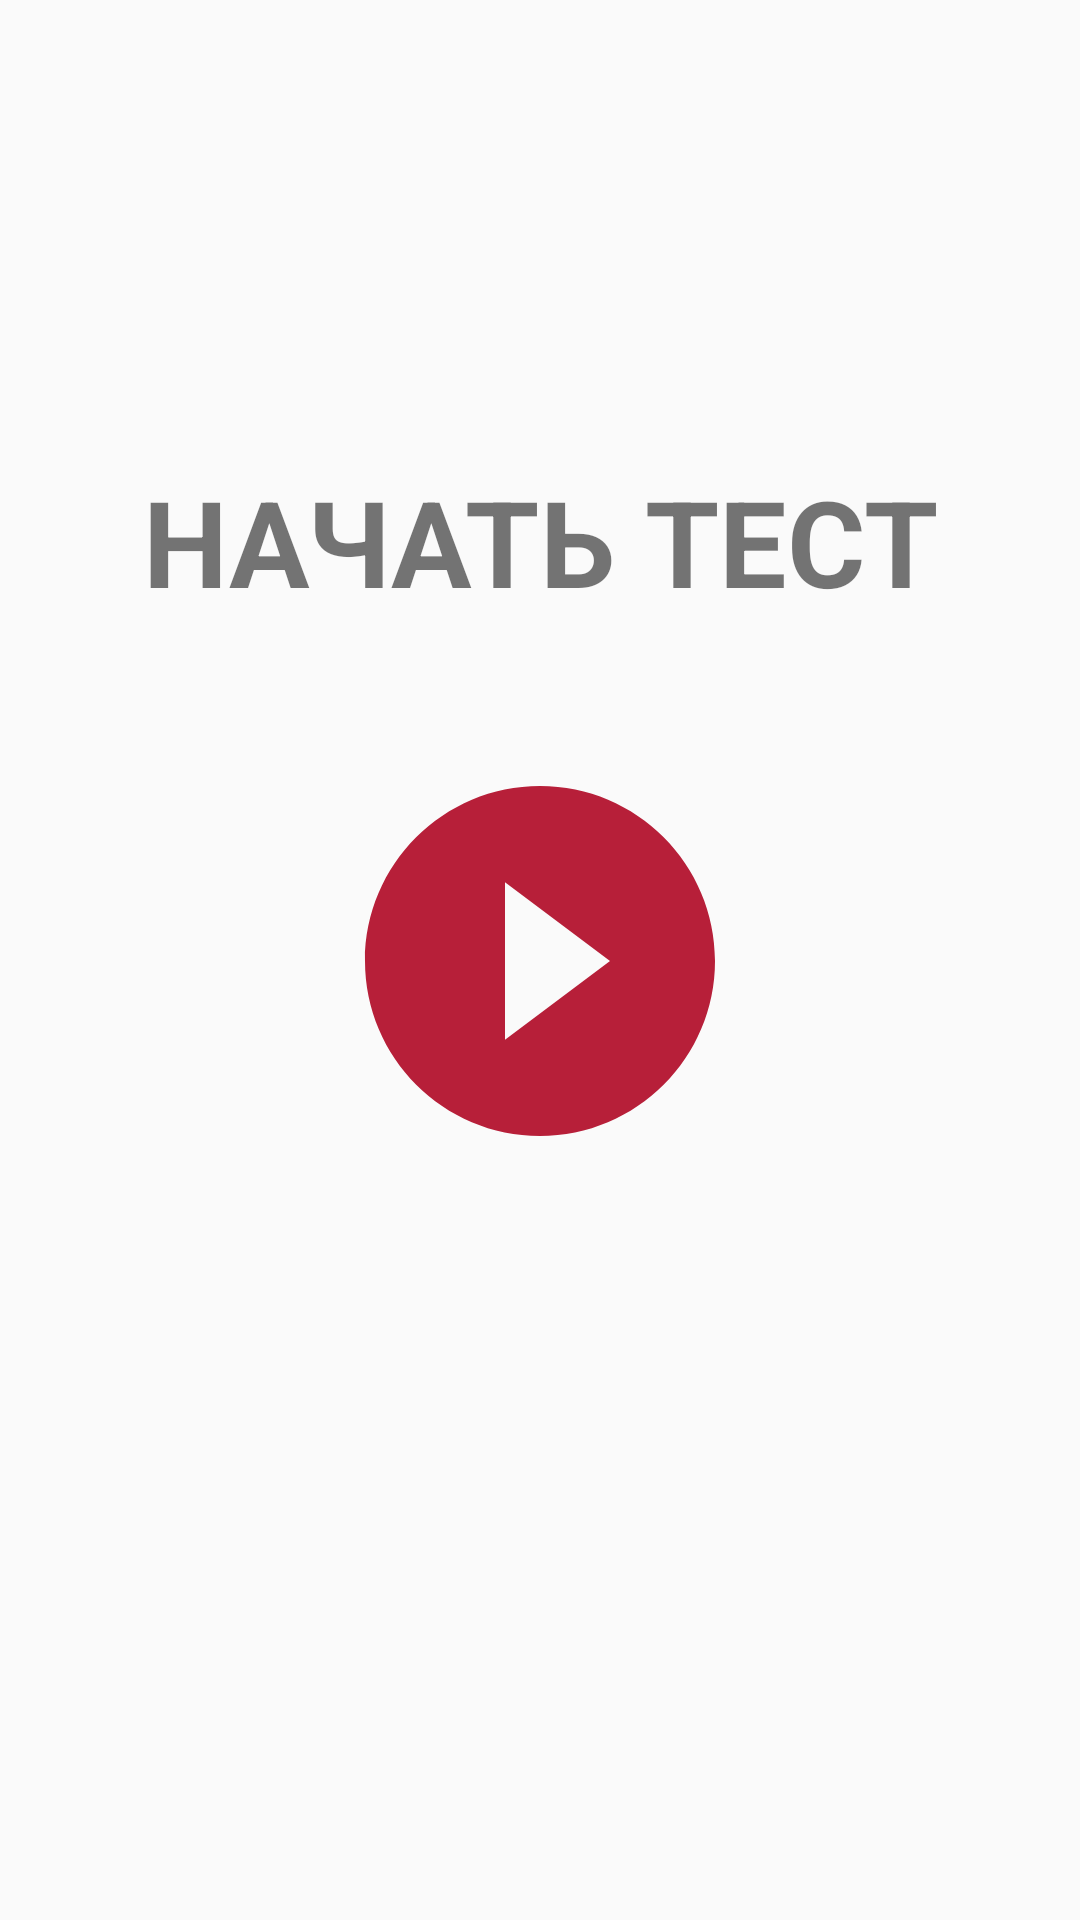

Icon click points for this 1080×1920 phone screenshot, format (x=x, y=y):
play: (x=540, y=961)
